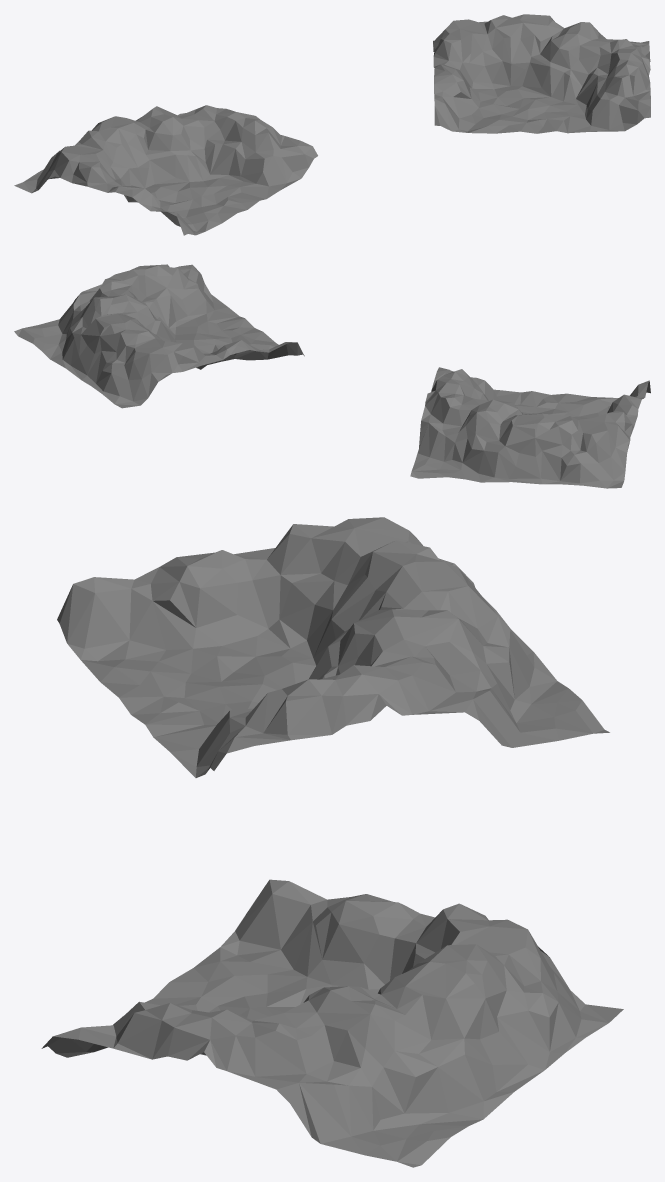
File: mountain1.glb
3 views of the same model, one above another, from view 1: azimuth 30°, elevation 25°; view 2: azimuth 150°, elevation 25°; view 3: azimuth 270°, elevation 25° (orthographic). The views are drawn at different scales.
Parts seen in each view (by area): view 1: mesh_id4, mesh_id43, mesh_id6, mesh_id45, mesh_id7, mesh_id46, mesh_id5, mesh_id44; view 2: mesh_id4, mesh_id43, mesh_id44, mesh_id5, mesh_id6, mesh_id45, mesh_id7, mesh_id46; view 3: mesh_id4, mesh_id43, mesh_id45, mesh_id6, mesh_id44, mesh_id5, mesh_id46, mesh_id7.
Part boxes in pixels (left/top/right/bottom): mesh_id4: left=433, top=29, right=650, bottom=131; mesh_id43: left=32, top=113, right=317, bottom=235; mesh_id6: left=433, top=14, right=650, bottom=100; mesh_id45: left=75, top=105, right=300, bottom=203; mesh_id7: left=434, top=16, right=623, bottom=125; mesh_id46: left=61, top=116, right=279, bottom=217; mesh_id5: left=433, top=40, right=649, bottom=133; mesh_id44: left=14, top=169, right=300, bottom=235; mesh_id4: left=58, top=264, right=304, bottom=405; mesh_id43: left=417, top=367, right=650, bottom=483; mesh_id44: left=410, top=389, right=623, bottom=488; mesh_id5: left=14, top=294, right=278, bottom=408; mesh_id6: left=95, top=264, right=256, bottom=365; mesh_id45: left=425, top=369, right=642, bottom=434; mesh_id7: left=80, top=275, right=259, bottom=369; mesh_id46: left=431, top=377, right=637, bottom=444; mesh_id4: left=41, top=879, right=585, bottom=1143; mesh_id43: left=57, top=531, right=534, bottom=777; mesh_id45: left=160, top=524, right=467, bottom=745; mesh_id6: left=78, top=894, right=508, bottom=1076; mesh_id44: left=67, top=597, right=609, bottom=777; mesh_id5: left=145, top=931, right=623, bottom=1167; mesh_id46: left=151, top=517, right=482, bottom=725; mesh_id7: left=118, top=897, right=527, bottom=1081.
Size of the model in its own units: 1.7 by 0.1236 by 0.6964.
4 materials, 4 textured.
